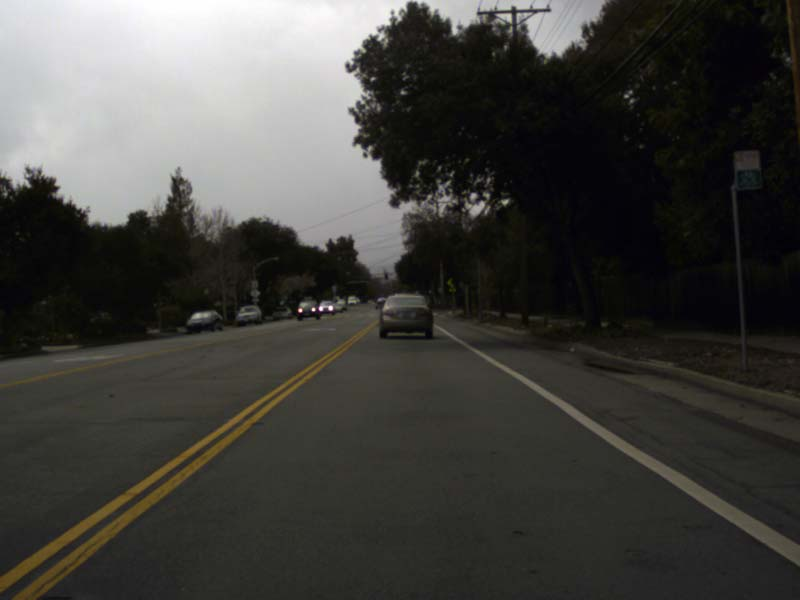Red: (384, 270, 387, 279)
